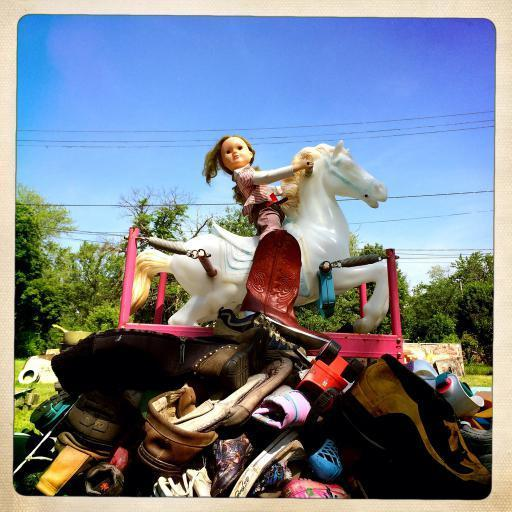horse: (120, 143, 390, 331)
